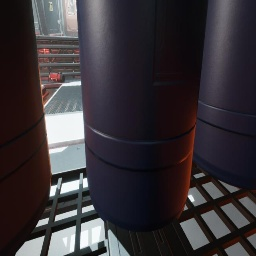EmergencyPhone ,: (48, 0, 53, 11)
FireExtinguisher ]: (48, 70, 65, 83)
NitrogenTank ,: (48, 33, 64, 36)
